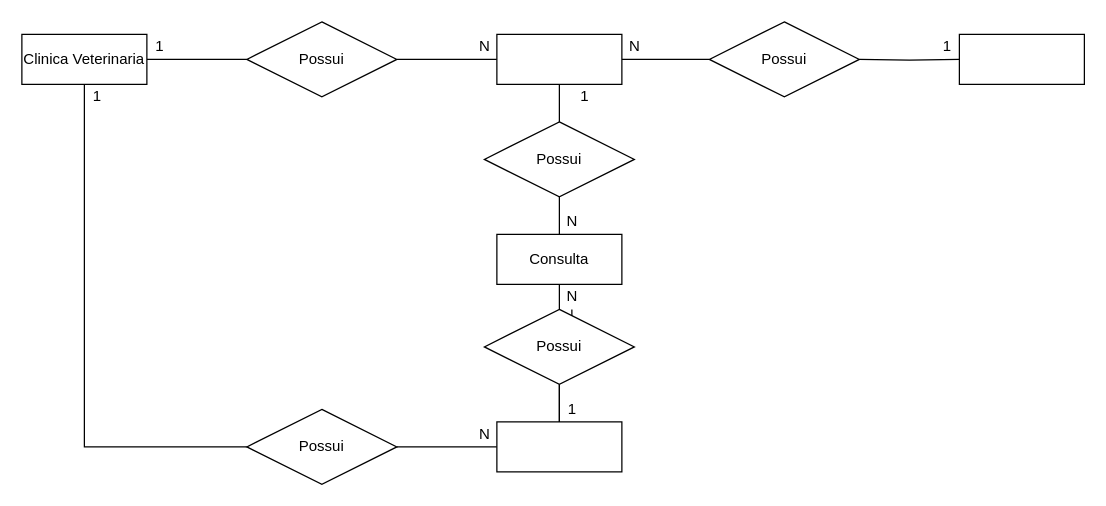
Some shapes in this 1106 by 506 pixel diagram are drawn without their labels. The centre of each missing label's shape, as x and y in pixels:
Dono: the point at 1021,58
Pet: the point at 559,58
Veterinario: the point at 559,446
